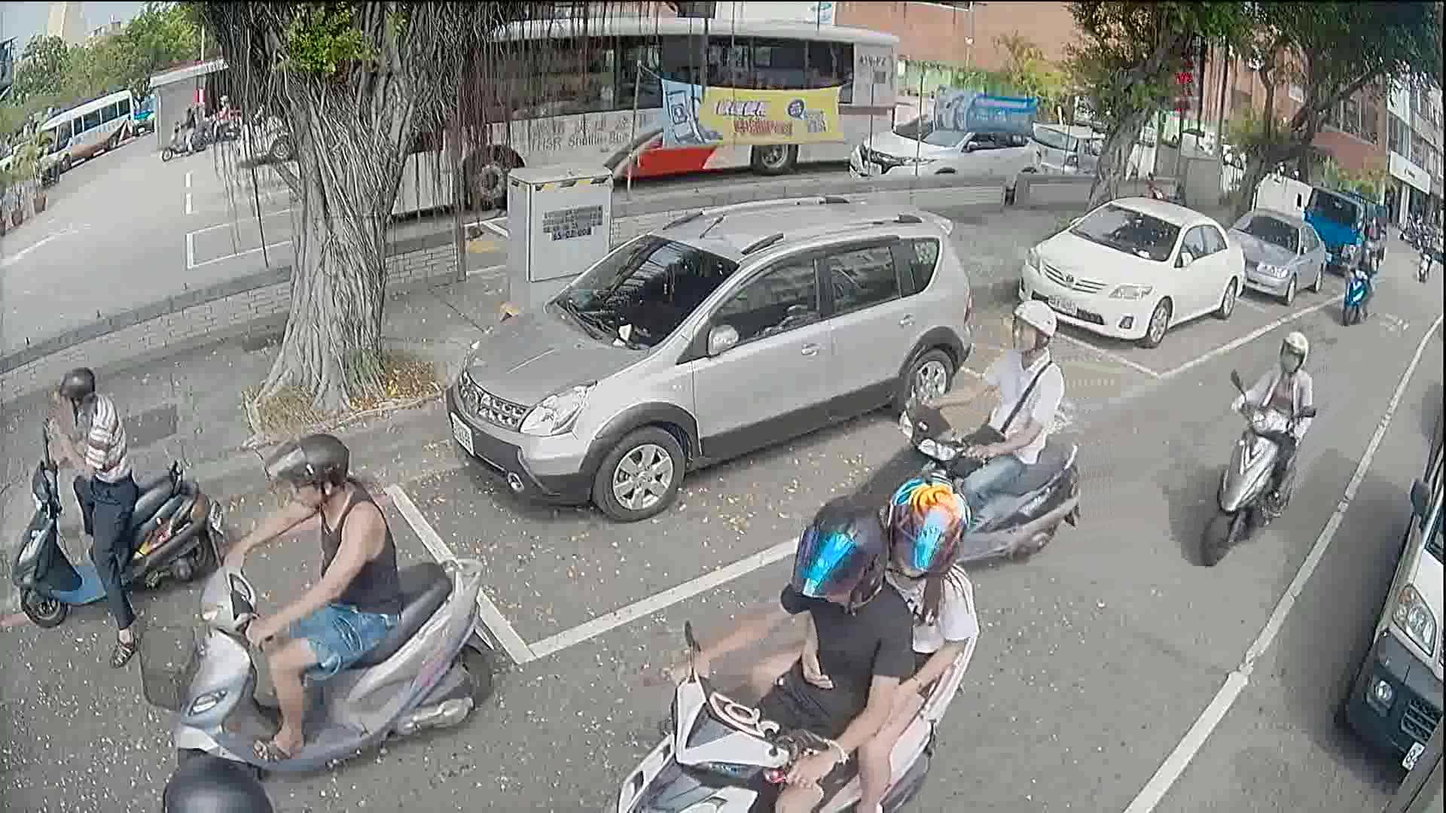person: (755, 446, 990, 812), (648, 498, 919, 812), (214, 423, 403, 769), (930, 300, 1075, 572), (41, 364, 138, 657), (1221, 329, 1315, 525), (160, 746, 275, 811), (1344, 239, 1378, 317), (176, 105, 195, 152), (36, 142, 48, 169)
